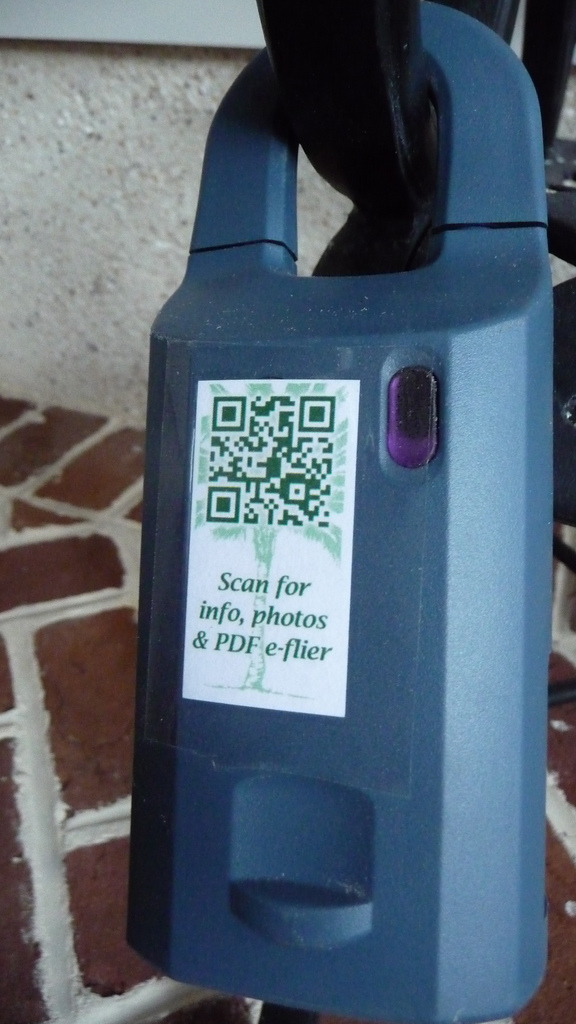QR-CODE: (205, 396, 336, 527)
